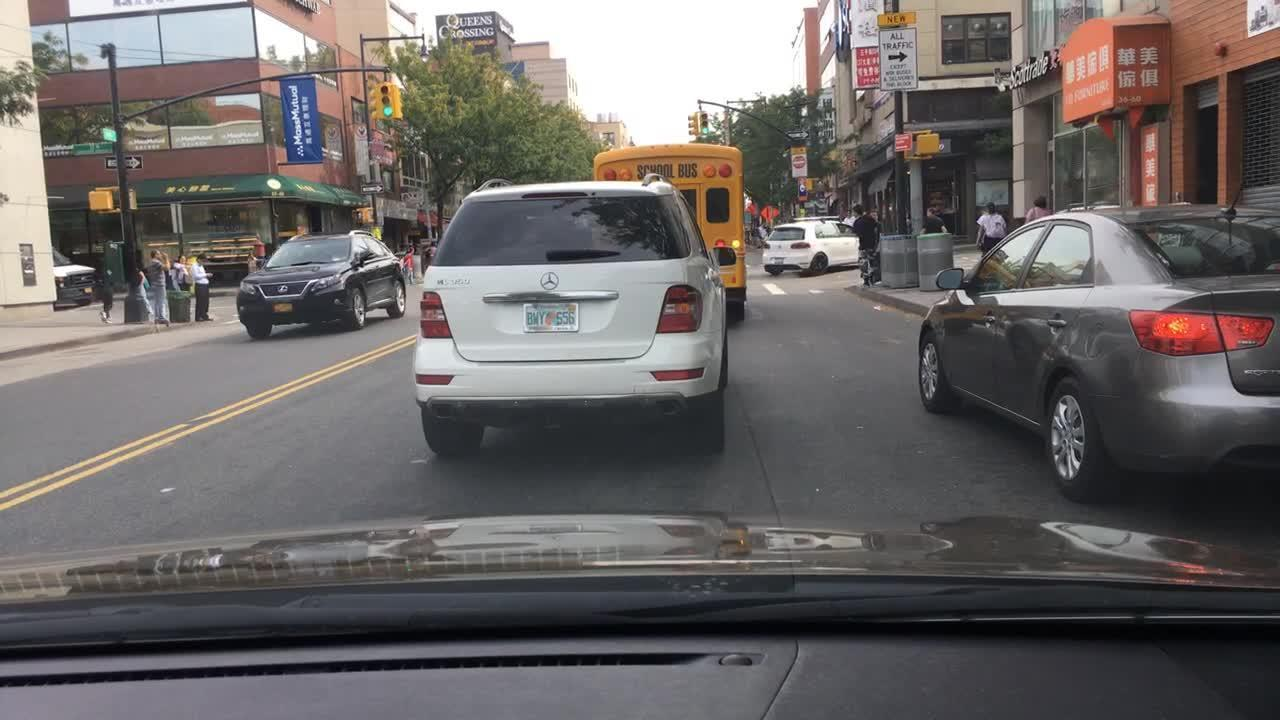Mercedes: (519, 255, 578, 299)
